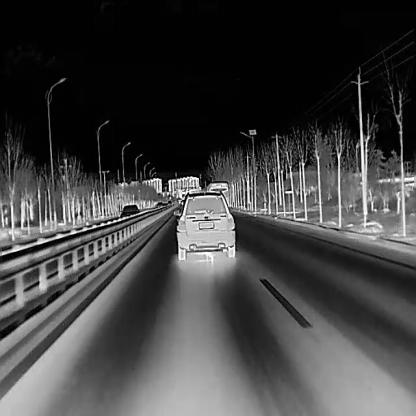bus: (206, 180, 229, 210)
car: (172, 188, 235, 259), (118, 203, 140, 224), (156, 201, 162, 209), (167, 199, 171, 205)
